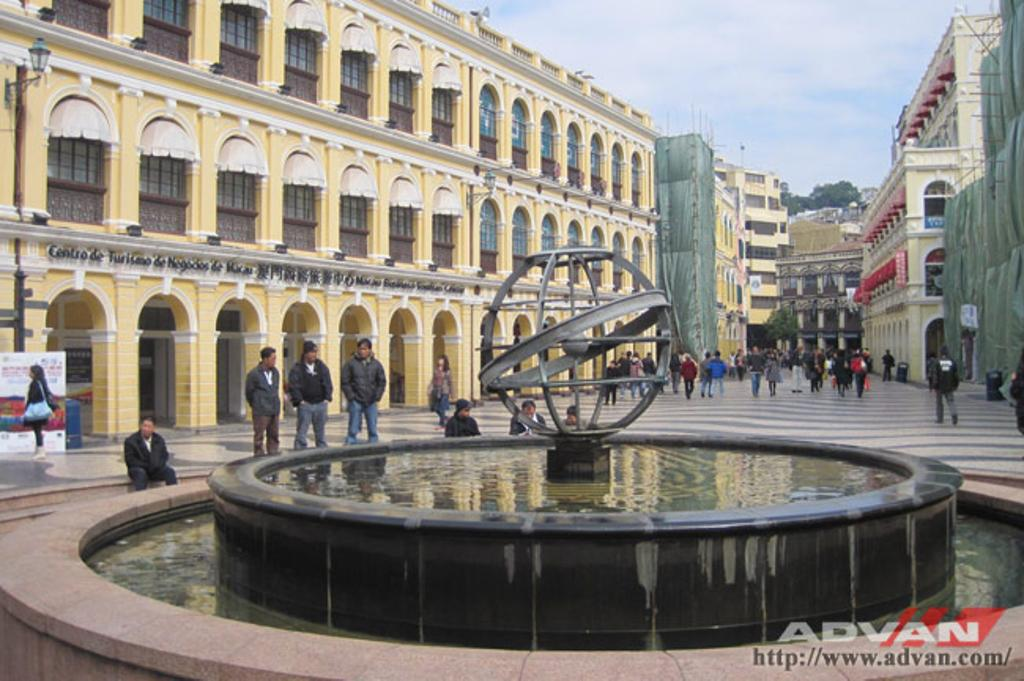face: (141, 419, 154, 435), (306, 346, 318, 360), (523, 407, 534, 421), (358, 344, 369, 356), (567, 412, 577, 424), (461, 404, 470, 417), (266, 354, 275, 367), (438, 356, 445, 366), (28, 369, 35, 379)
